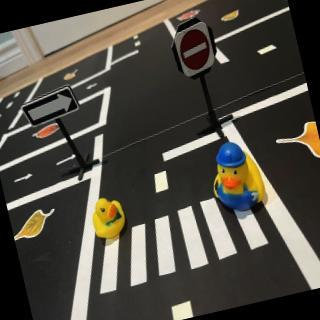duck_regular: (87, 192, 131, 243)
duck_specialty: (202, 135, 272, 220)
road_crosswalk: (80, 179, 276, 297)
road_oneway: (55, 153, 80, 168), (12, 172, 37, 187), (84, 81, 101, 92)
sign_noentry: (172, 20, 220, 79)
sign_oneway_right: (20, 83, 83, 131)
